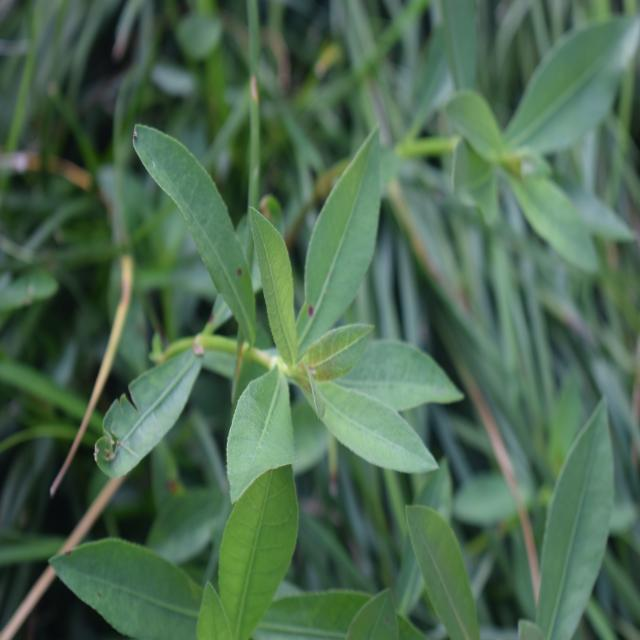Alligatorweed: (121, 120, 457, 540)
